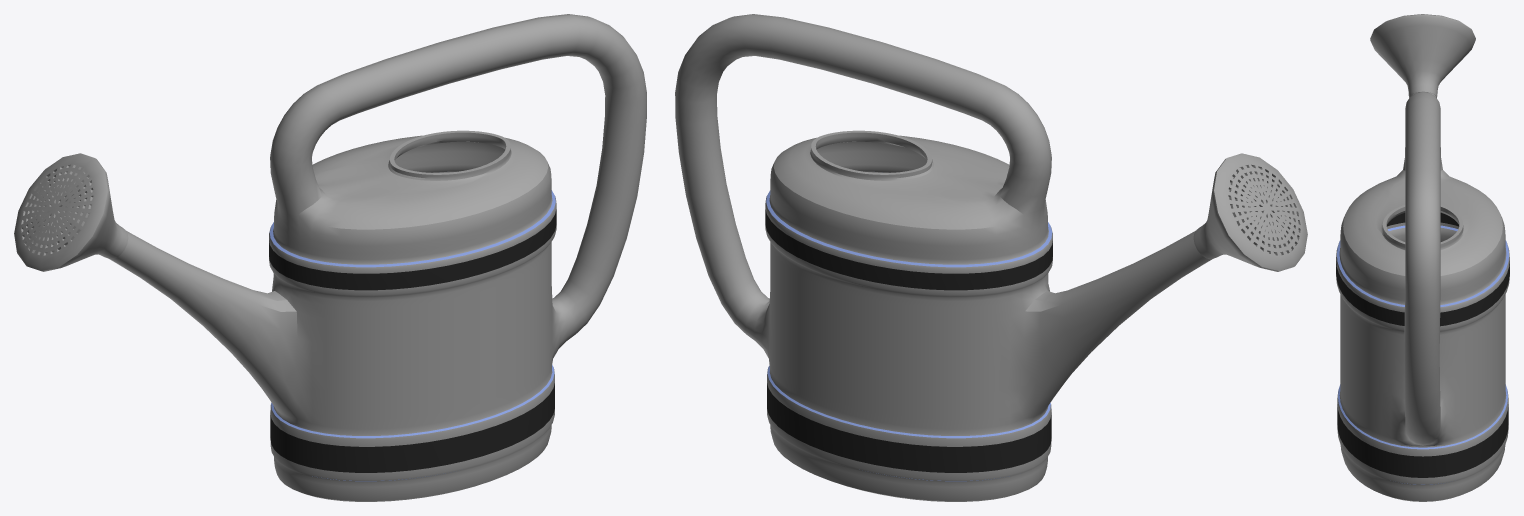
Rendered from WaterCanon.fbx.
3 views of the same model, side by side, from view 1: azimuth 30°, elevation 25°; view 2: azimuth 150°, elevation 25°; view 3: azimuth 270°, elevation 25° (orthographic). The views are drawn at different scales.
Parts seen in each view (by area): view 1: WaterContainer; view 2: WaterContainer; view 3: WaterContainer.
Part boxes in pixels (x1,y1,x2,y2): WaterContainer: (14, 14, 646, 501); WaterContainer: (675, 14, 1307, 501); WaterContainer: (1336, 14, 1509, 501).
Bounding box in the file's own units: 145 × 91.4 × 42.87.
